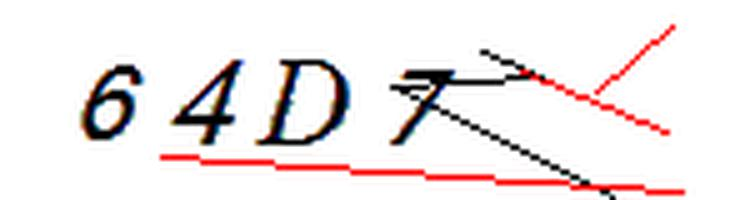4: (163, 53, 251, 152)
6: (69, 55, 153, 151)
7: (381, 63, 462, 154)
D: (254, 50, 360, 154)
